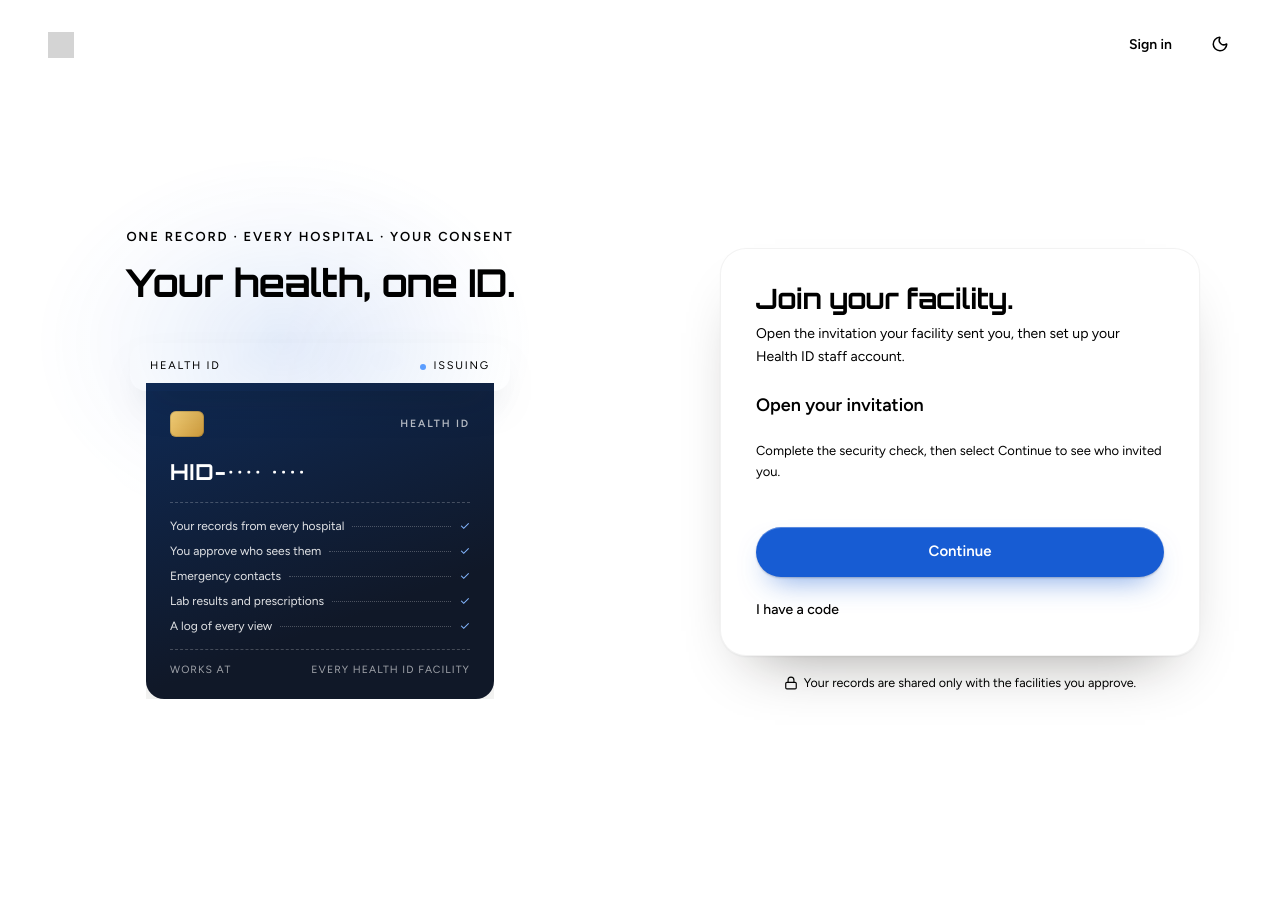
the staff invitation page › shows one check, the invitation’s, for the email’s link and still one after switching to the code
This screenshot has width=1280, height=900.
Expected: the heading "Open your invitation" is shown, [756,394,924,416]
Click the button "I have a code". click: (797, 609)
box: [756,598,839,620]
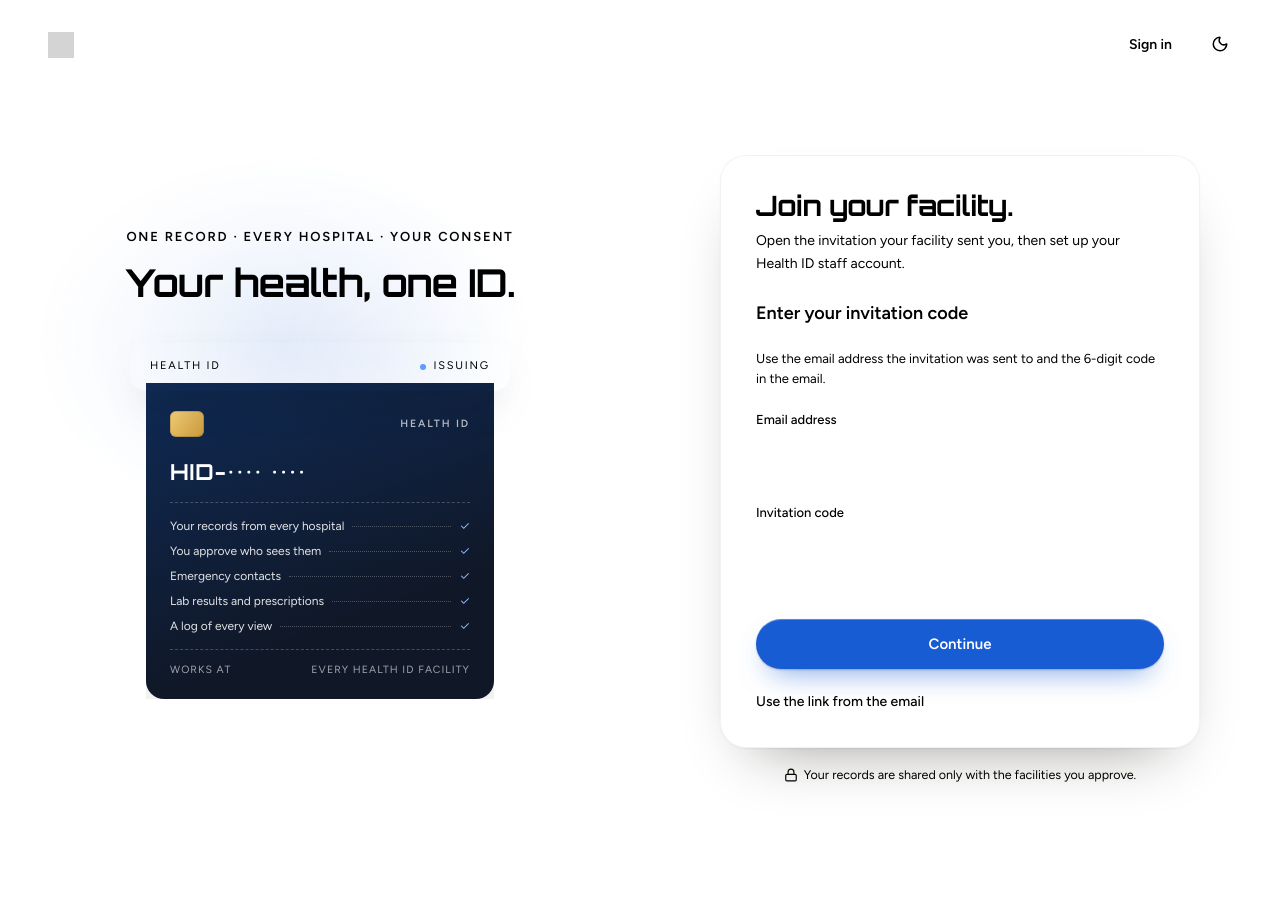
Now the heading "Enter your invitation code" is shown, box [756,302,968,324]
